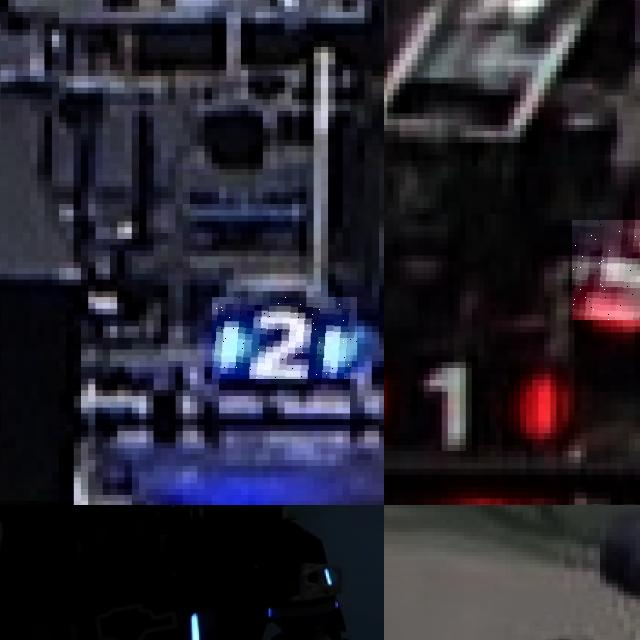B2: (212, 297, 357, 379)
Bs: (63, 593, 203, 640)
R1: (384, 341, 577, 447), (571, 219, 640, 320)
